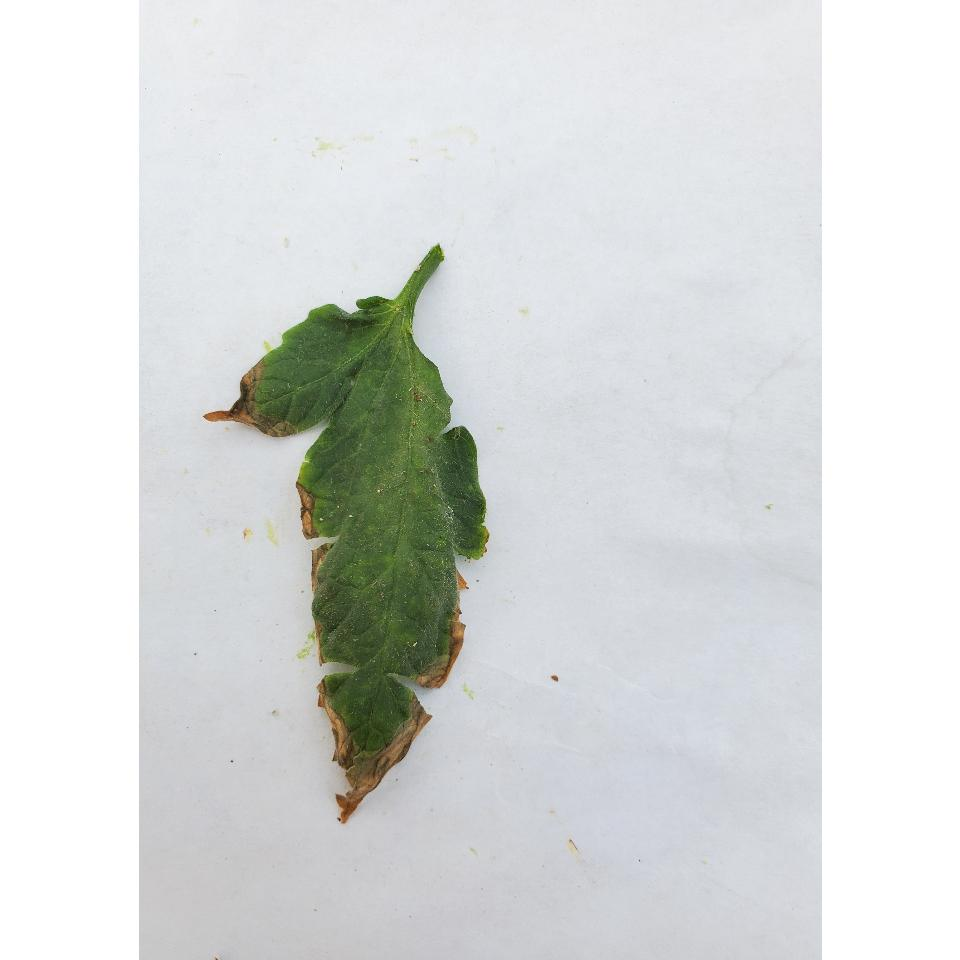tomato_bacterial_blight: (258, 276, 486, 814)
